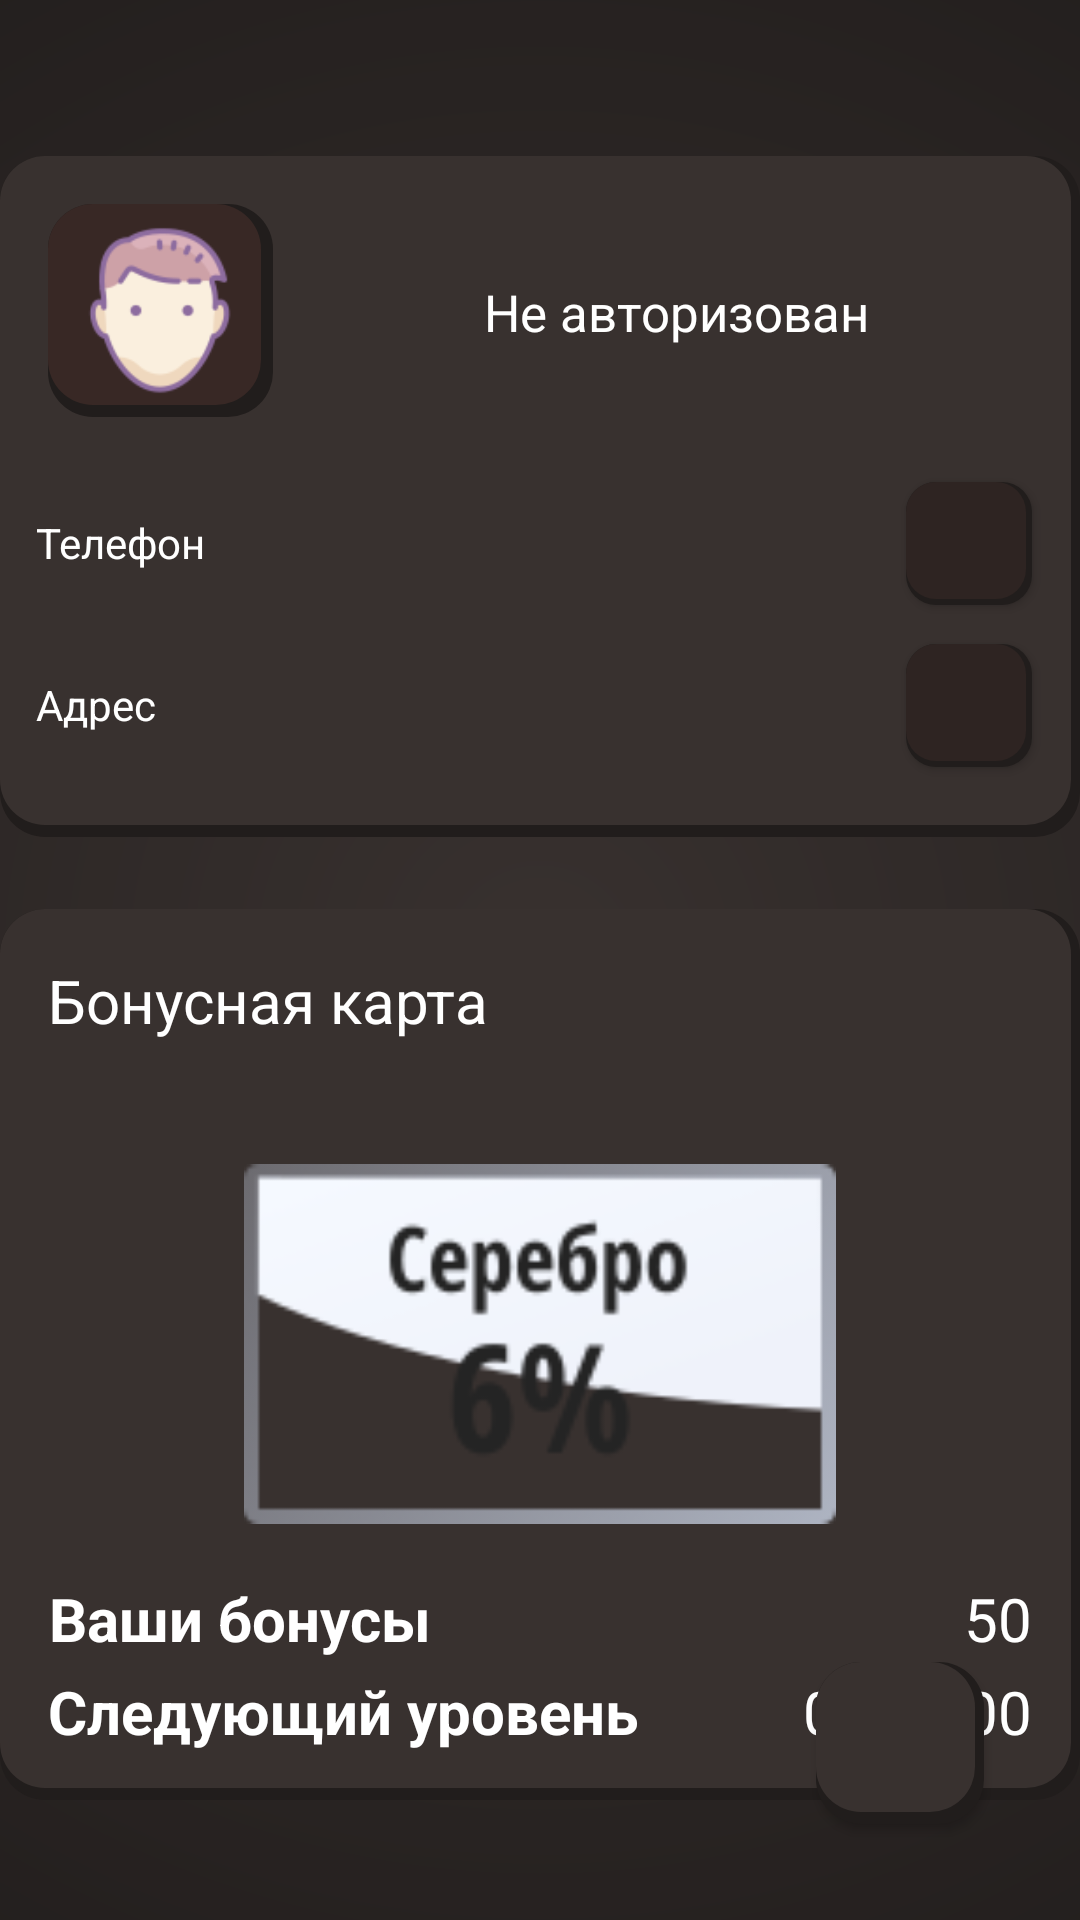

Icon bounding boxes for this 1080px×1920px phone screenshot, format (x1, y1, x2, y2):
human: (90, 228, 230, 393)
